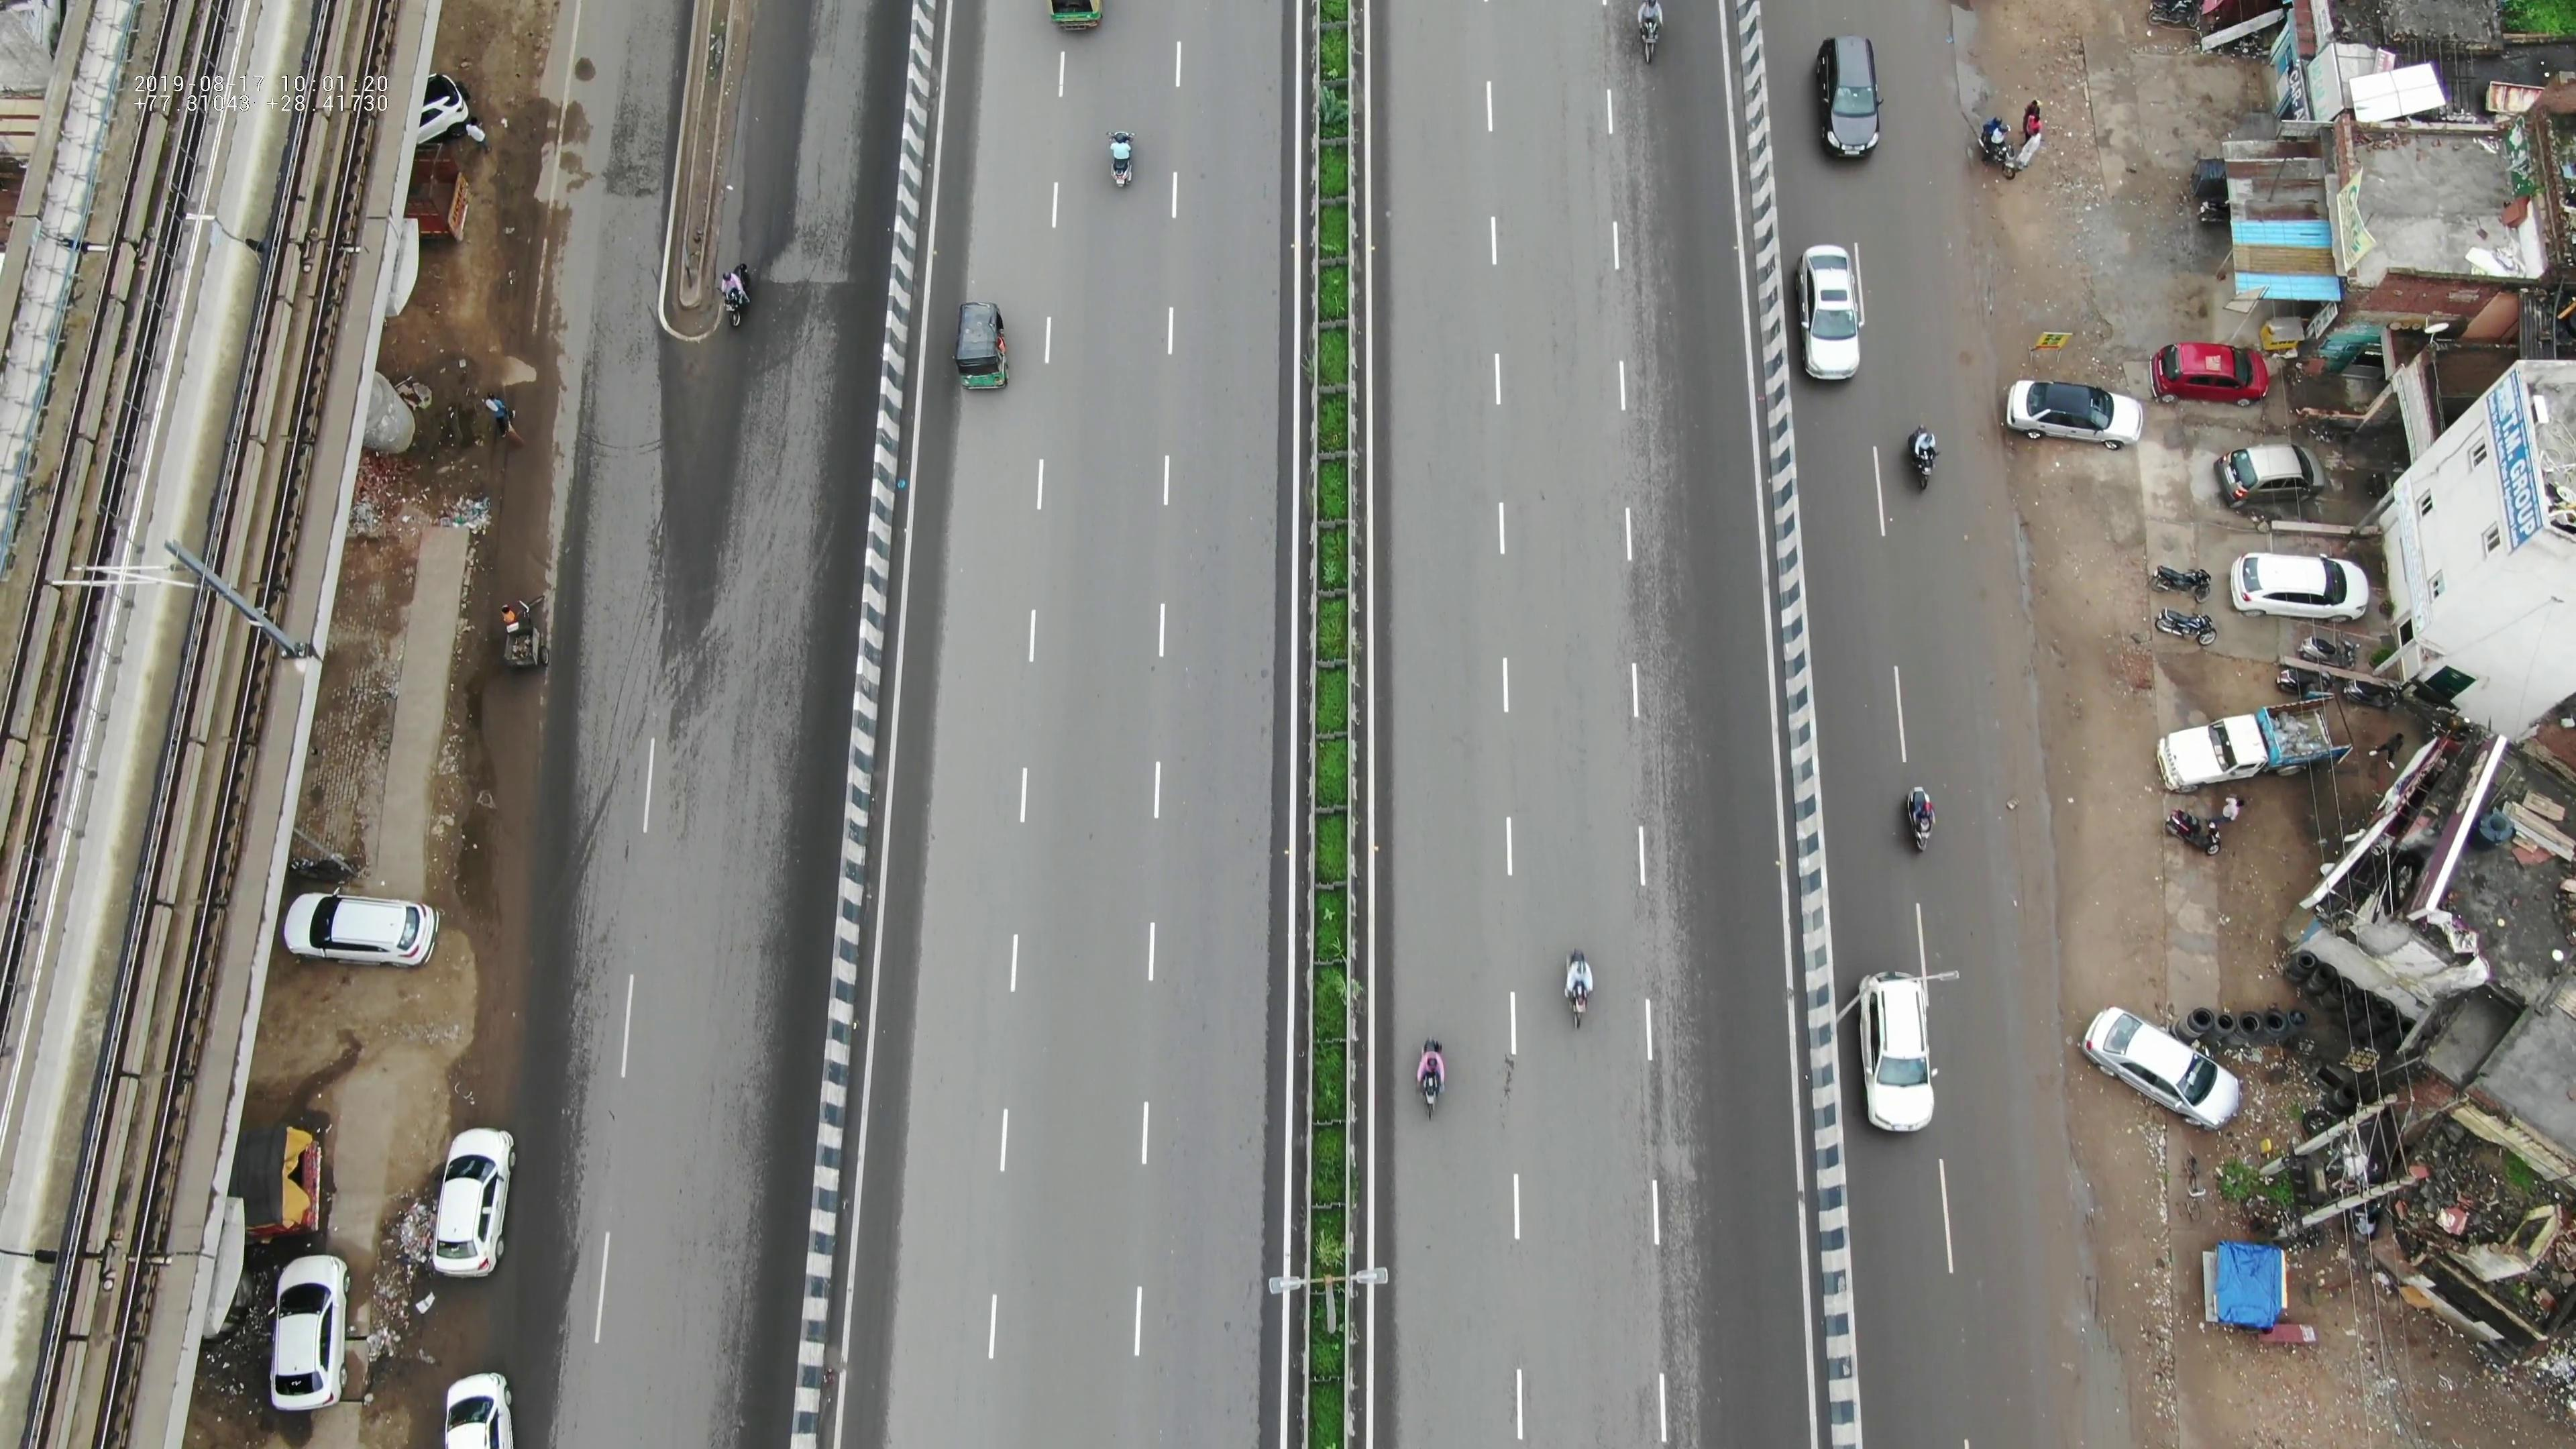Muddy_road: (522, 207, 596, 435), (476, 706, 554, 888), (497, 464, 582, 602)
Waterlogging: (708, 159, 754, 269)
